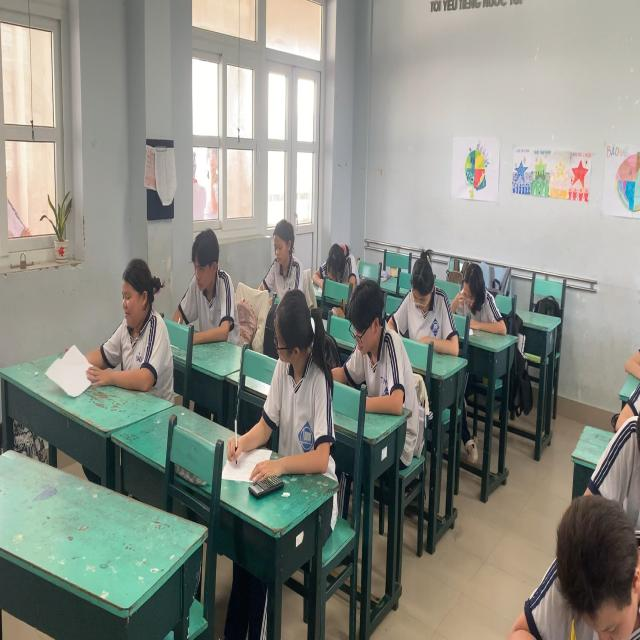cheating: (259, 292, 331, 470)
not_cheating: (539, 484, 636, 639), (336, 269, 412, 426), (100, 251, 171, 400), (174, 228, 242, 358), (246, 208, 311, 302), (402, 240, 447, 358), (458, 248, 504, 348), (321, 230, 358, 287)
